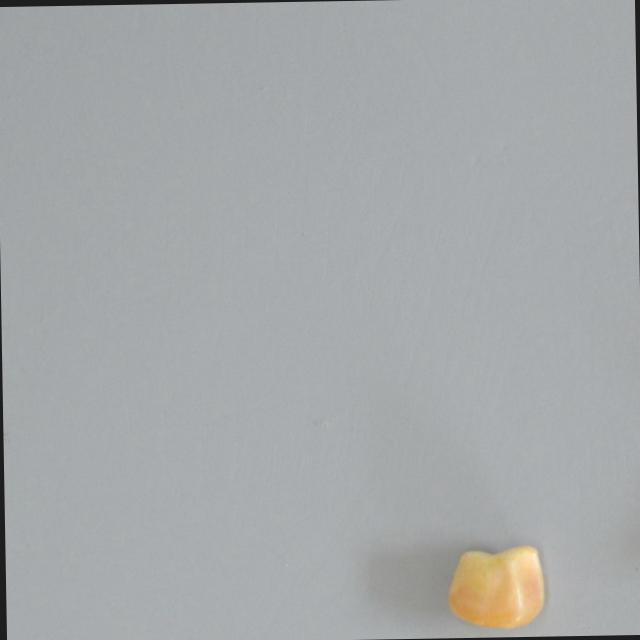pelicula: (443, 544, 546, 630)
